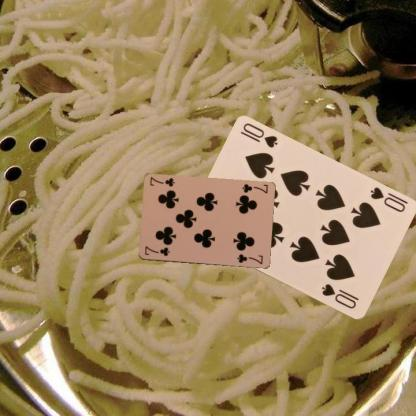10s: (367, 184, 406, 214)
7c: (239, 181, 269, 195), (142, 244, 171, 257)
